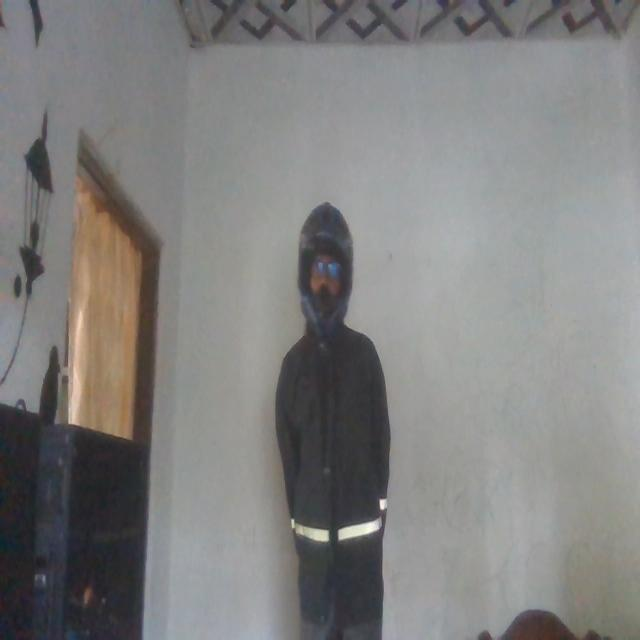Helmet_Wearer: (290, 197, 358, 347)
Jacket_Wearer: (275, 315, 389, 622)
Person: (270, 196, 394, 640)
